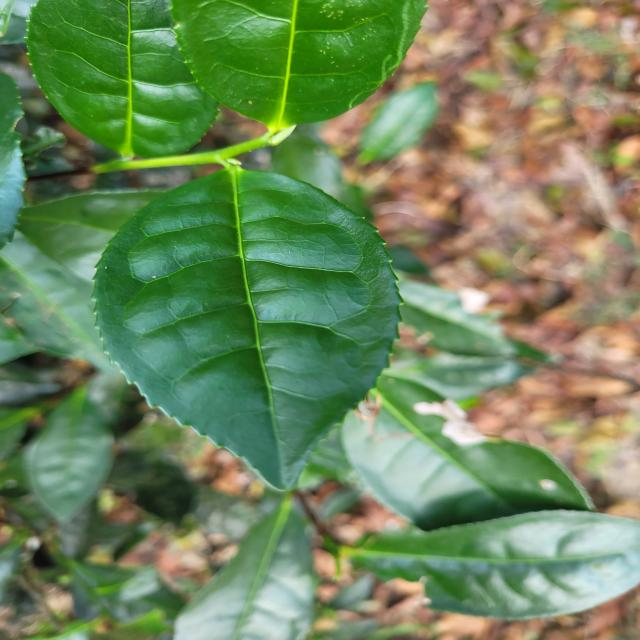Category D(7+ days, Not for Tea): (72, 132, 433, 502)
